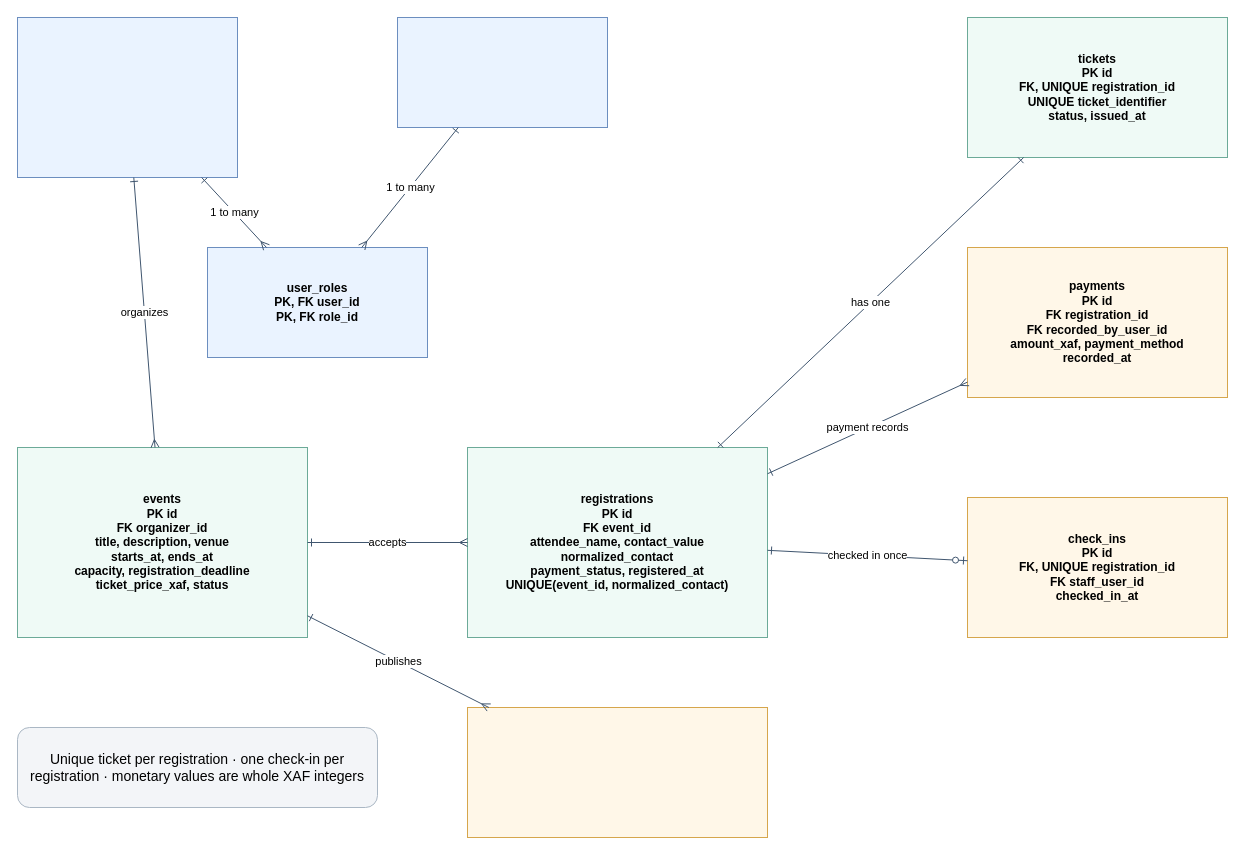
Some shapes in this 1245 by 855 pixel diagram are drawn without their labels. The centre of each missing label's shape, as x and y in pixels:
"event_updates PK id FK event_id FK published_by_user_id message, published_at" goes at point 617,772.
"roles PK id UNIQUE name" goes at point 502,72.
"users PK id display_name email_or_phone password_hash created_at" goes at point 127,97.
